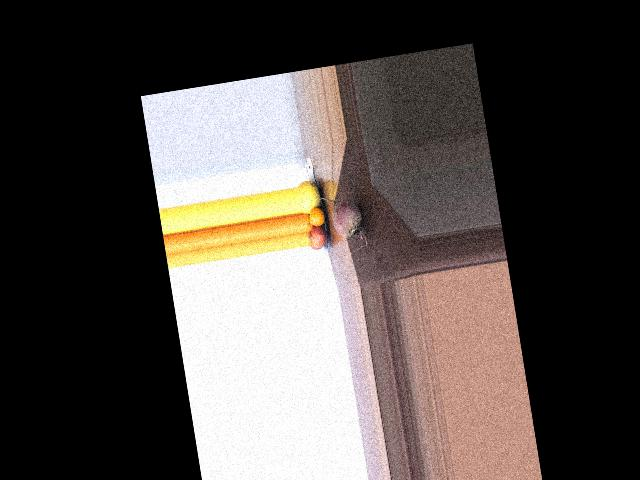beet: (315, 191, 368, 257)
